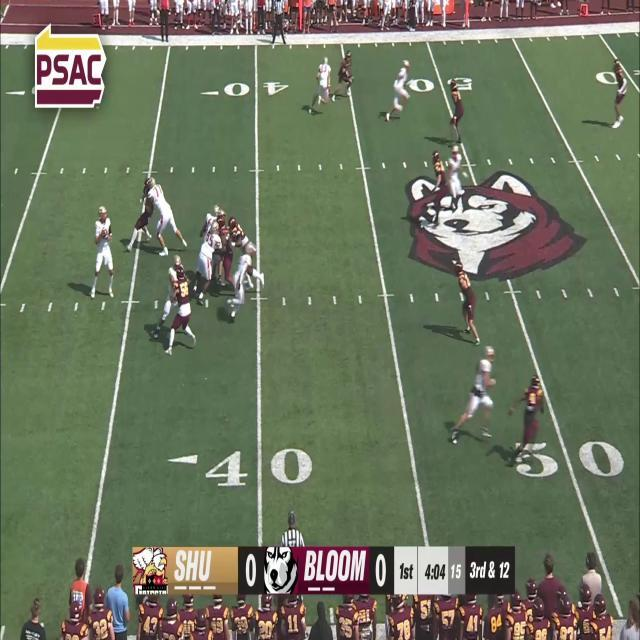football: (102, 227, 108, 240)
